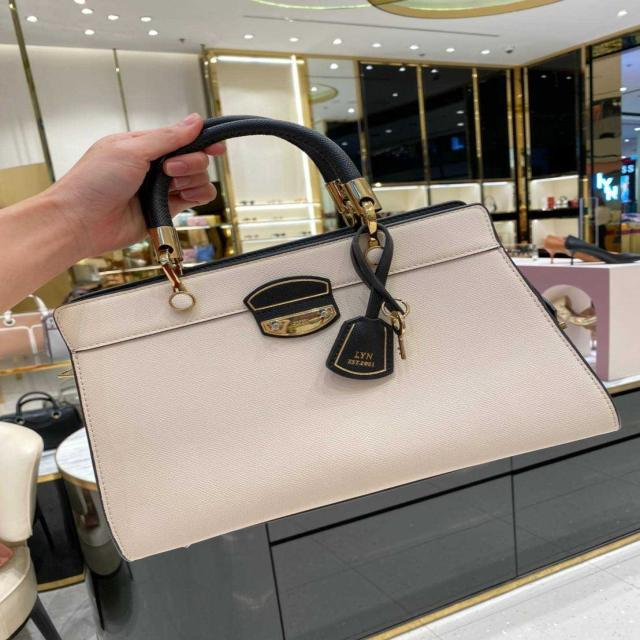Handbag: (62, 185, 623, 564)
